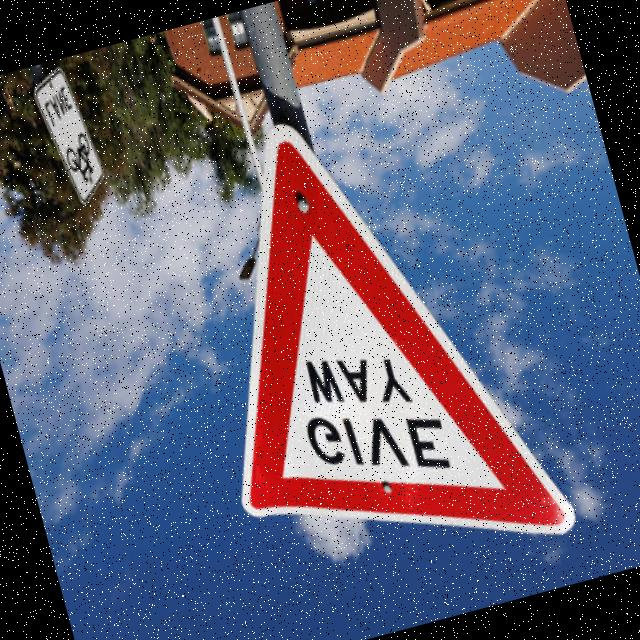give_way: (152, 78, 583, 616)
